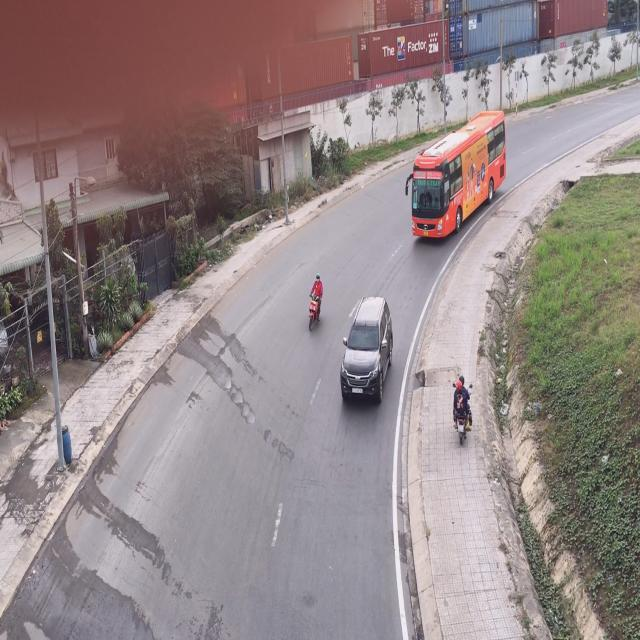bus: (410, 110, 509, 248)
car: (339, 294, 391, 405)
motorbike: (453, 372, 473, 448), (304, 274, 322, 336)
